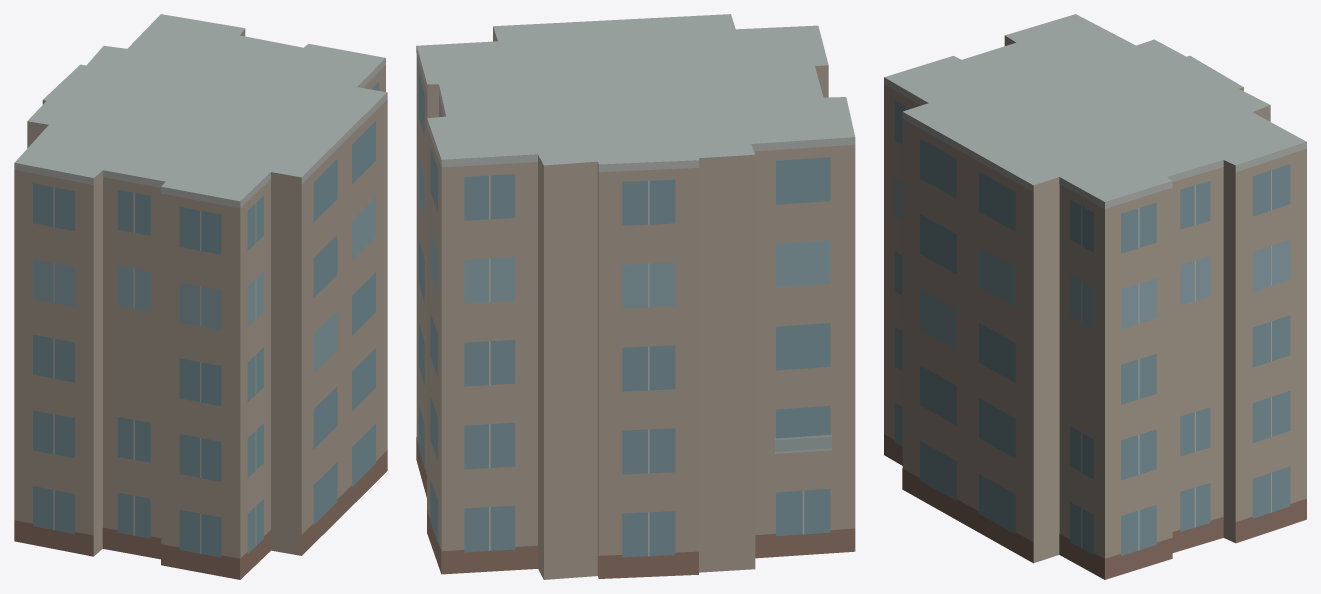
File: survey-upis-32528459.glb
3 renders of one model, left to right at view 1: azimuth 30°, elevation 25°; view 2: azimuth 150°, elevation 25°; view 3: azimuth 270°, elevation 25°, orthographic. The views are drawn at different scales.
Parts seen in each view (by area): view 1: survey-upis-32528459.tmp; view 2: survey-upis-32528459.tmp; view 3: survey-upis-32528459.tmp.
Part boxes in pixels (<box>): survey-upis-32528459.tmp: <box>14,14,387,579</box>; survey-upis-32528459.tmp: <box>416,14,855,579</box>; survey-upis-32528459.tmp: <box>884,14,1306,579</box>.
Size of the model in its own units: 14.2 by 13.3 by 13.49.
